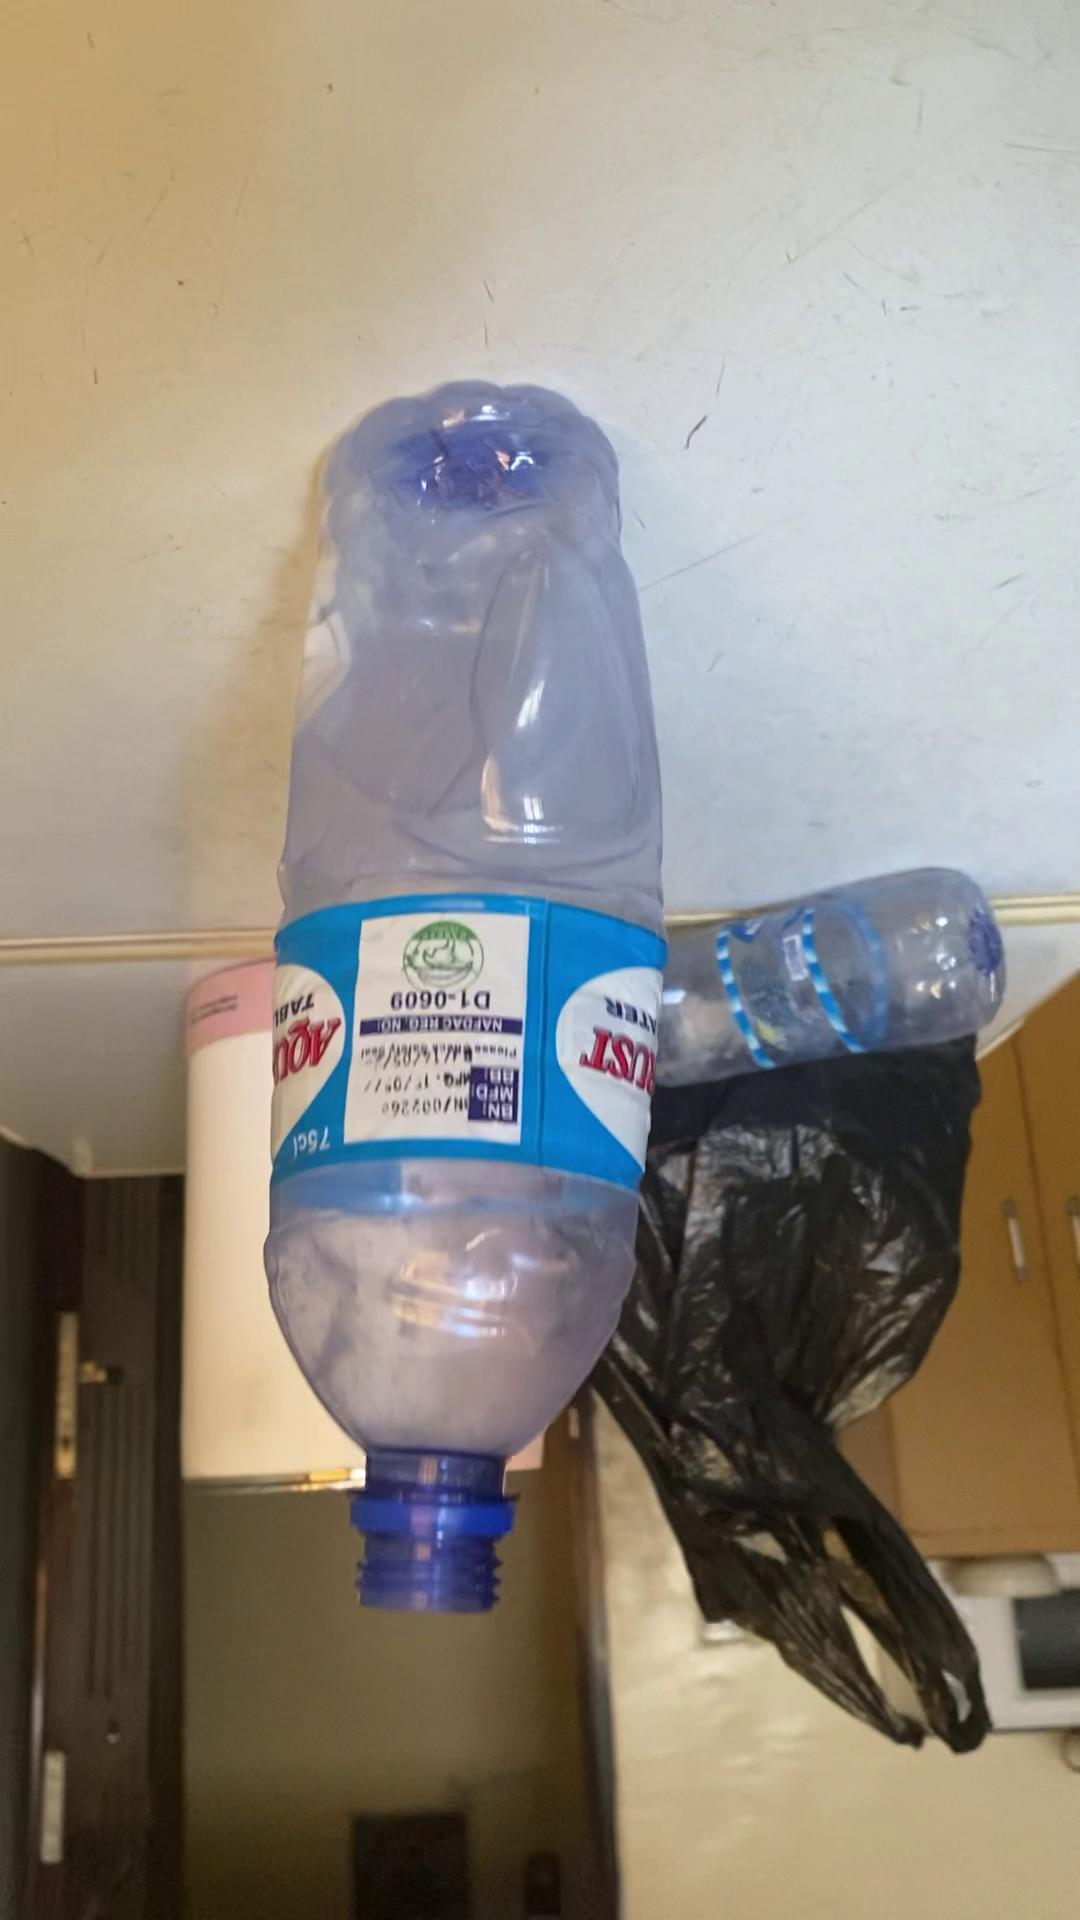crumbled: (253, 378, 673, 1626)
label: (274, 893, 653, 1174)
no-cap: (349, 1499, 520, 1613)
